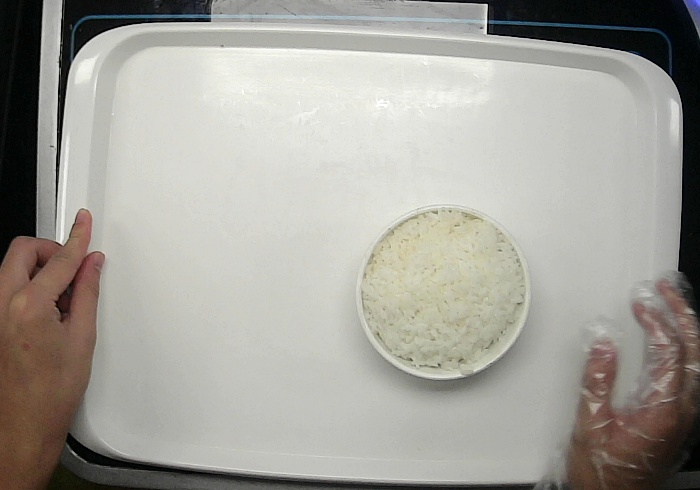HZYJPL-Fan_Wan: (355, 203, 532, 379)
